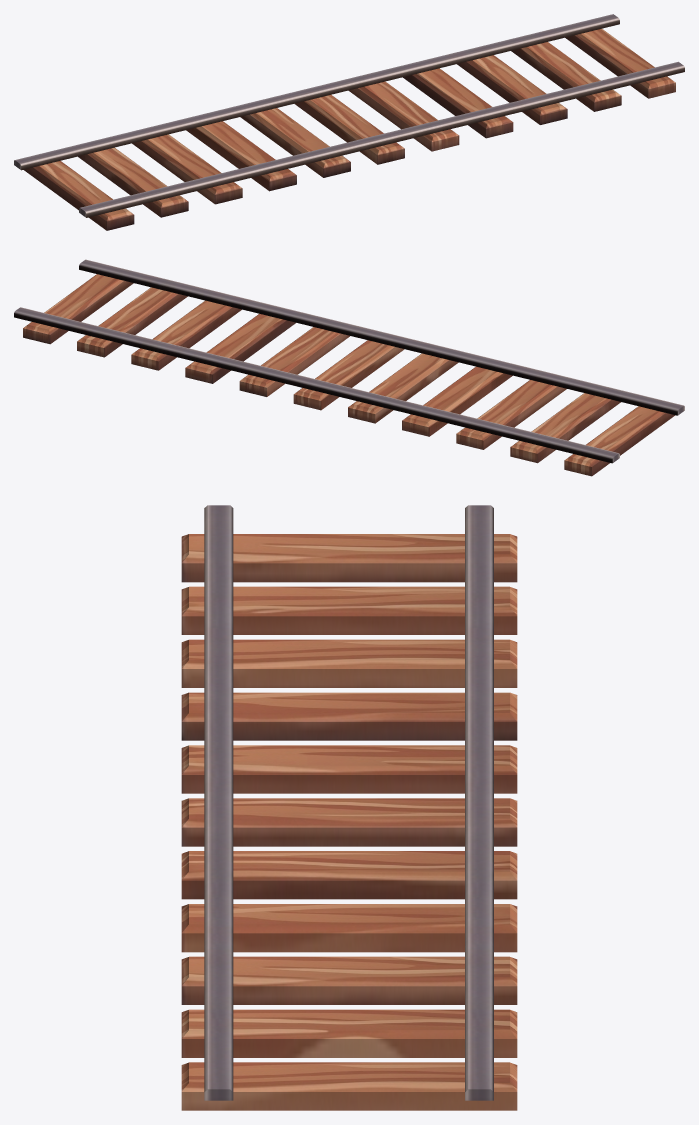
File: StraightRail.fbx
3 views of the same model, one above another, from view 1: azimuth 30°, elevation 25°; view 2: azimuth 150°, elevation 25°; view 3: azimuth 270°, elevation 25° (orthographic). The views are drawn at different scales.
Visible parts, largest first — view 1: StraightRail; view 2: StraightRail; view 3: StraightRail.
Part boxes in pixels (x1,y1,x2,y2): StraightRail: (14,14,684,230); StraightRail: (14,259,684,476); StraightRail: (181,505,517,1110).
Bounding box in the file's own units: 295 × 8.43 × 71.75.
